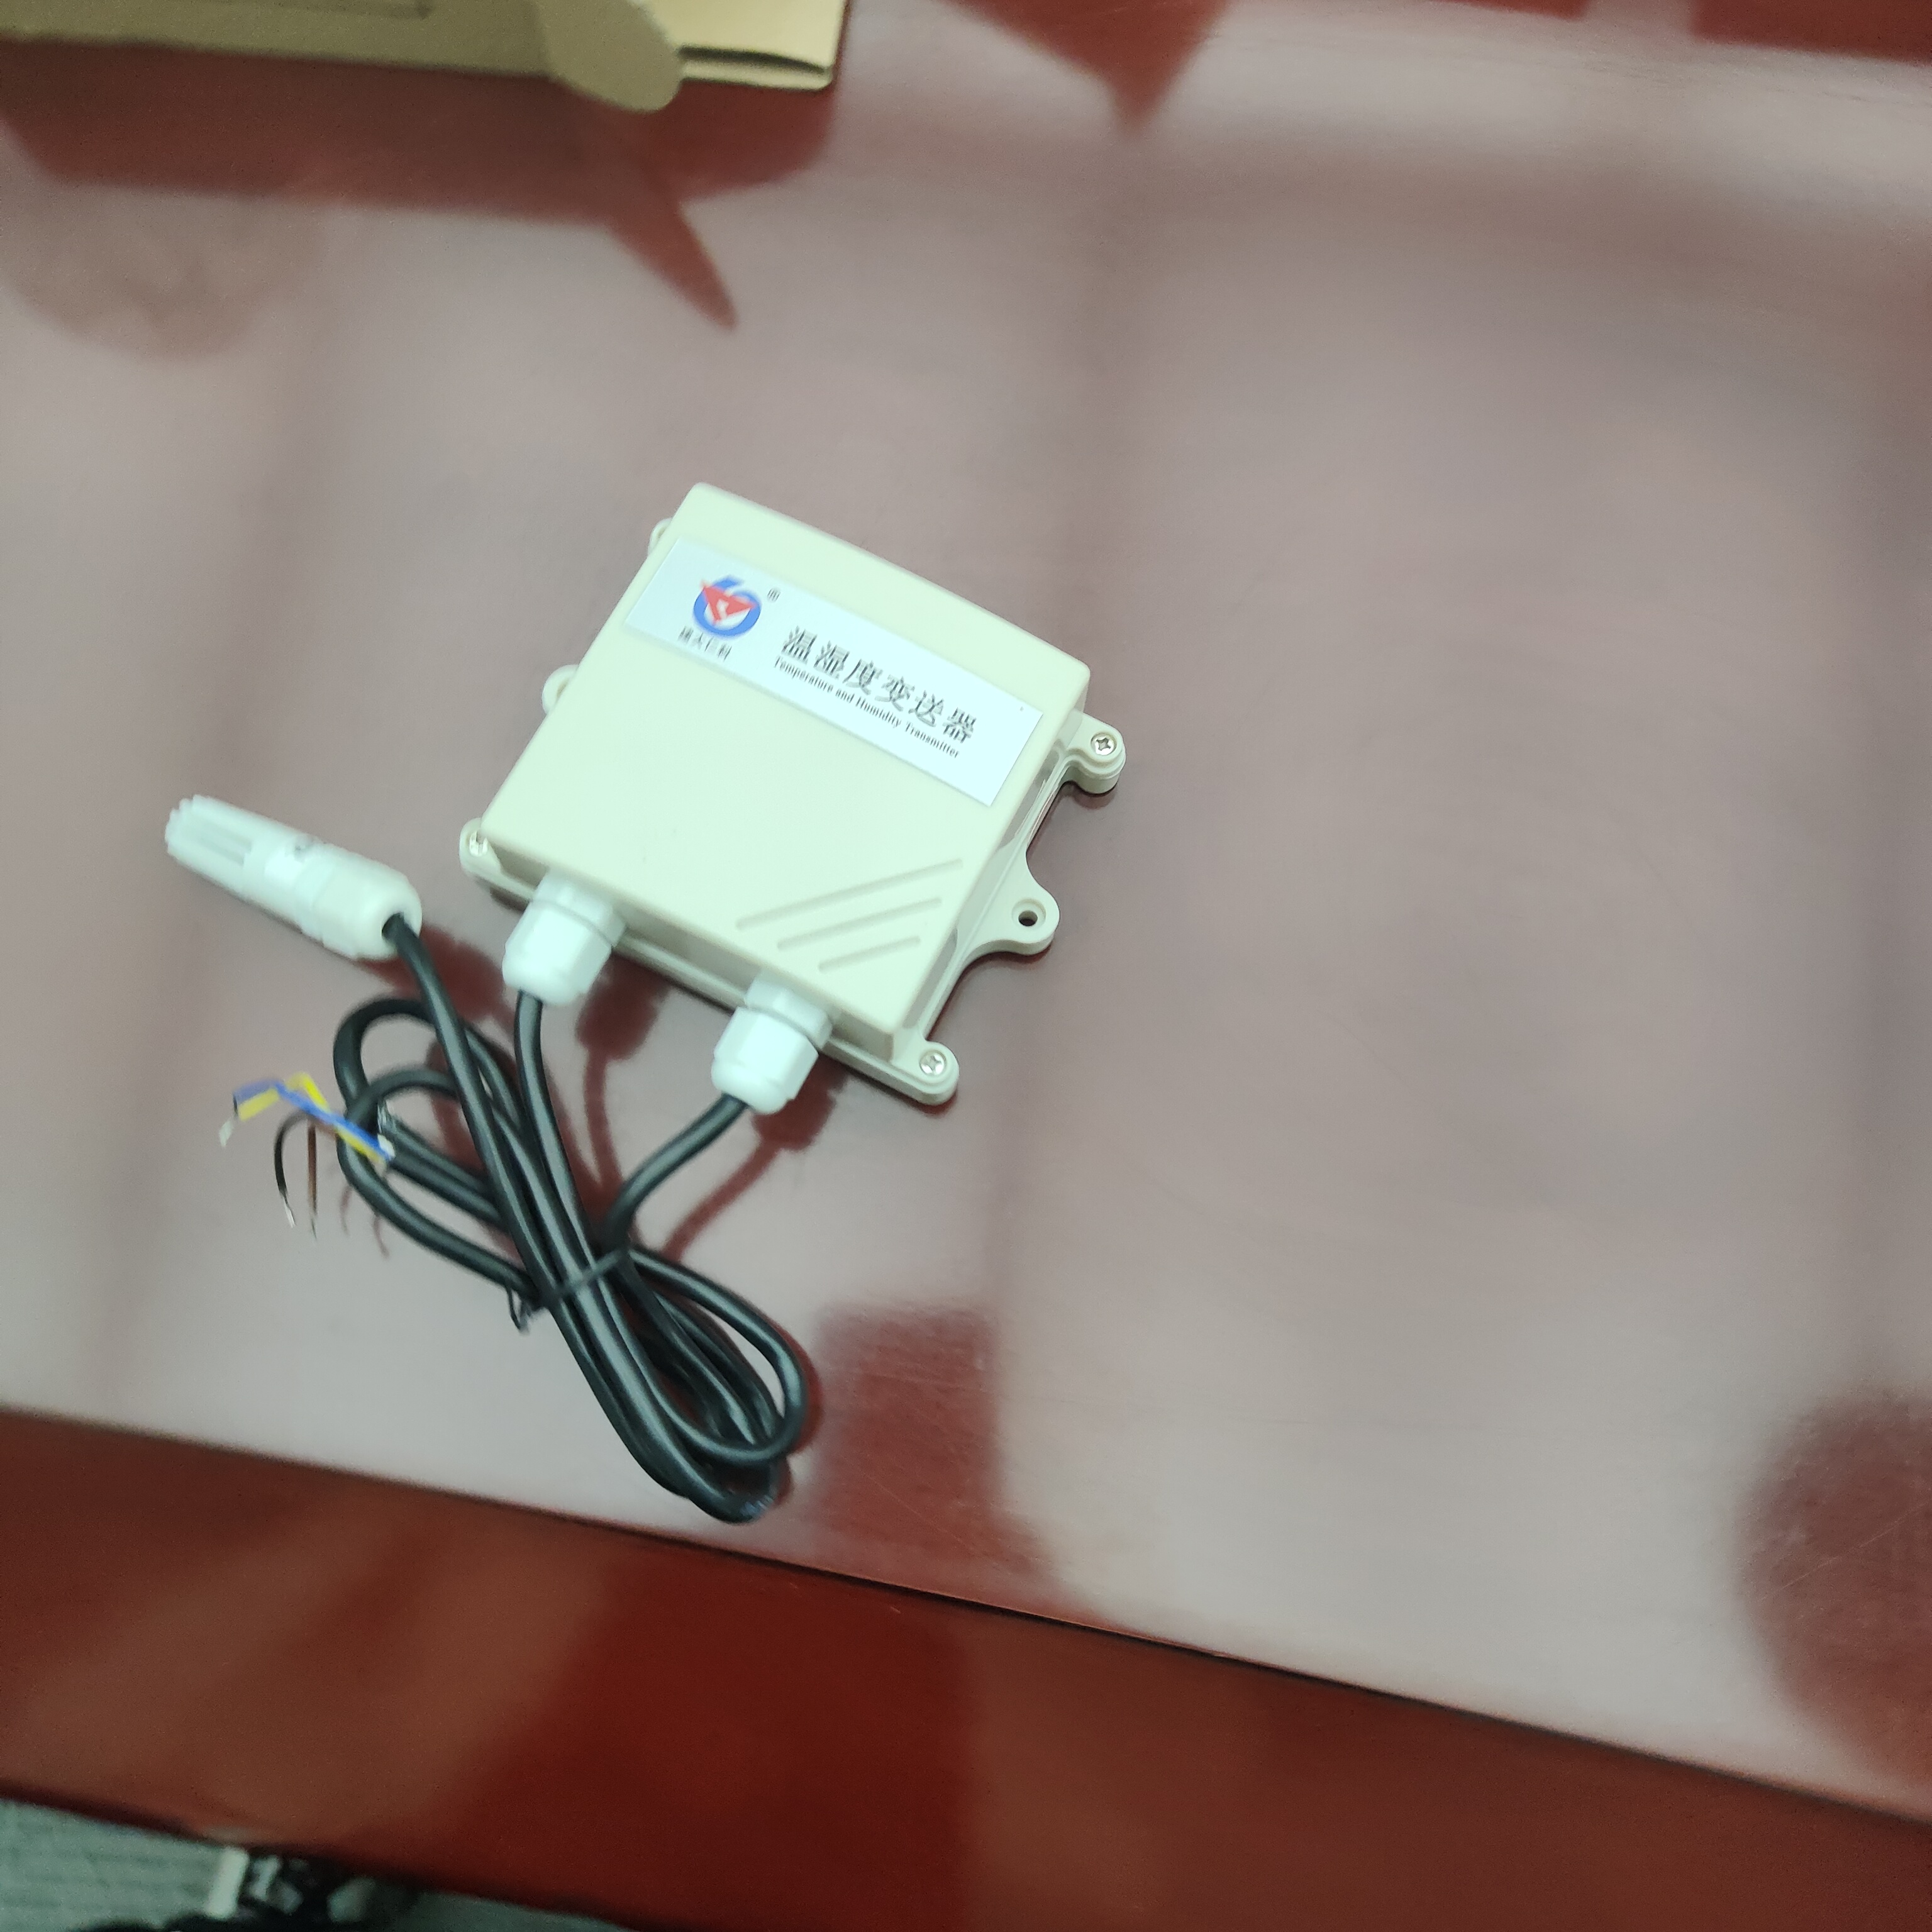wsdbsq: (456, 476, 1162, 1108)
